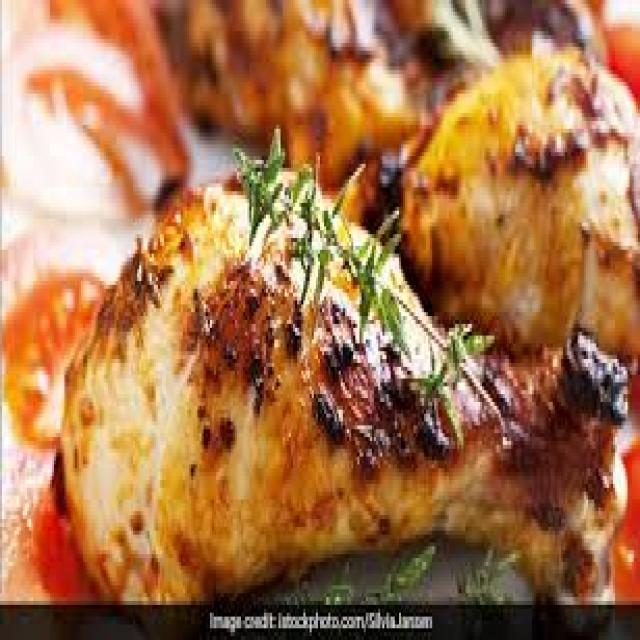Frango: (60, 54, 640, 608)
